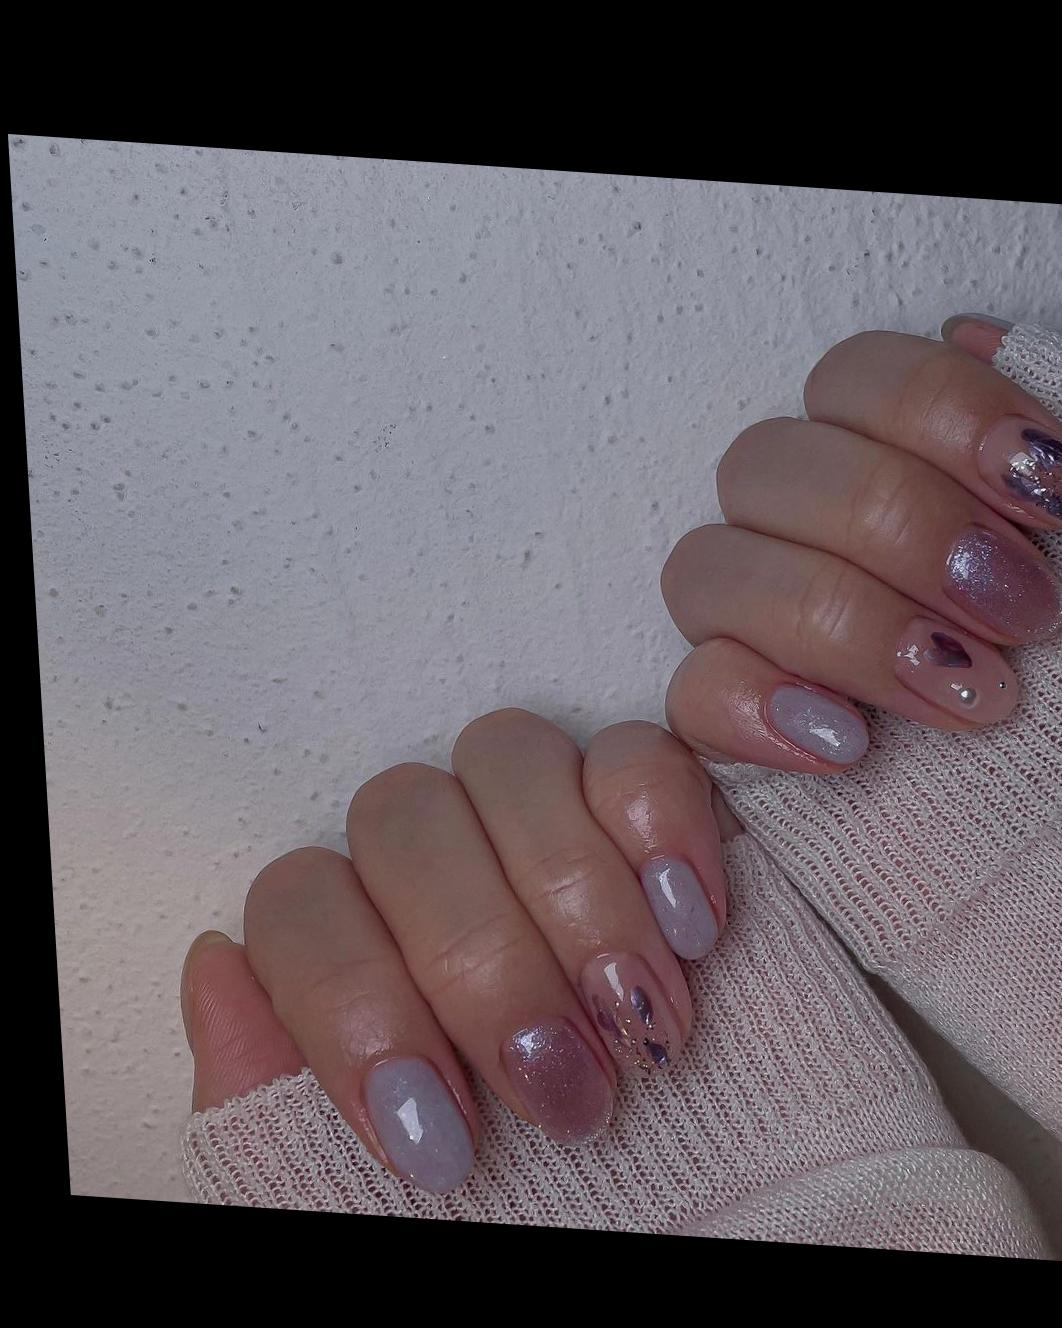nail: (356, 1047, 478, 1196), (494, 1009, 619, 1149), (936, 518, 1062, 648), (888, 611, 1023, 728), (575, 945, 687, 1072), (971, 408, 1062, 523), (760, 679, 872, 766), (637, 849, 722, 961), (938, 309, 1017, 364)
